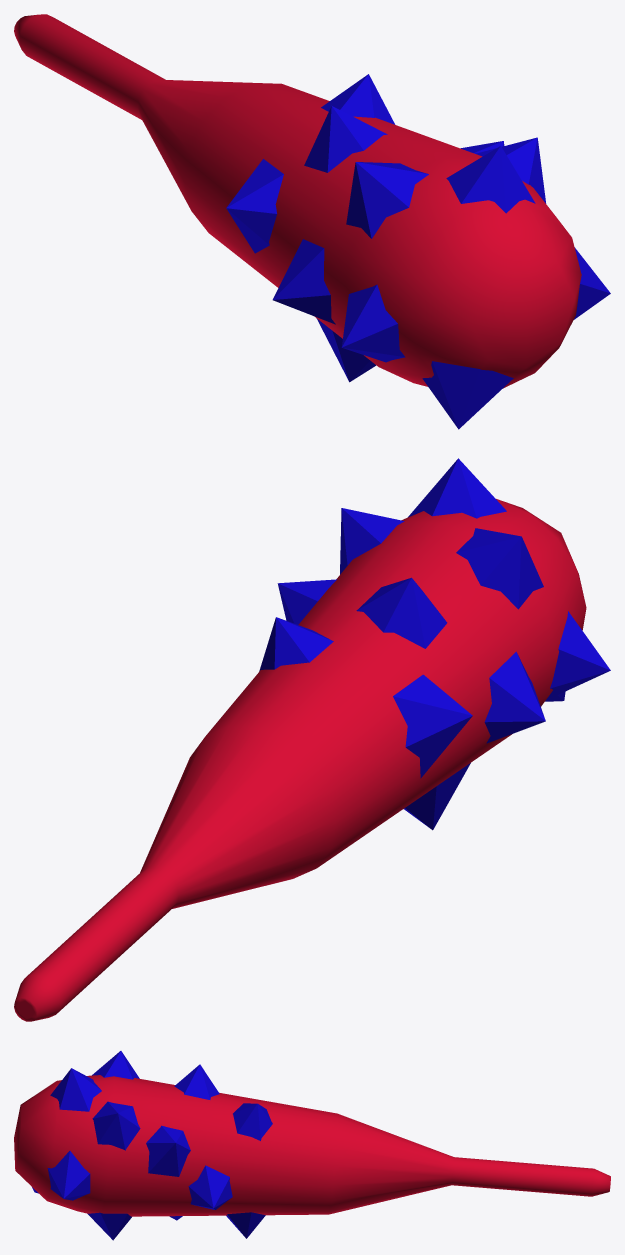
File: JoinedClub.fbx
The picture shows the model from 3 angles, top to bottom: view 1: azimuth 30°, elevation 25°; view 2: azimuth 150°, elevation 25°; view 3: azimuth 270°, elevation 25°; orthographic projection. The views are drawn at different scales.
Visible parts, largest first — view 1: SwordBroken.003; view 2: SwordBroken.003; view 3: SwordBroken.003.
Part boxes in pixels (x1,y1,x2,y2): SwordBroken.003: (14, 14, 610, 429); SwordBroken.003: (14, 458, 610, 1021); SwordBroken.003: (14, 1051, 610, 1240).
Size of the model in its own units: 26.12 by 27.34 by 86.48.
